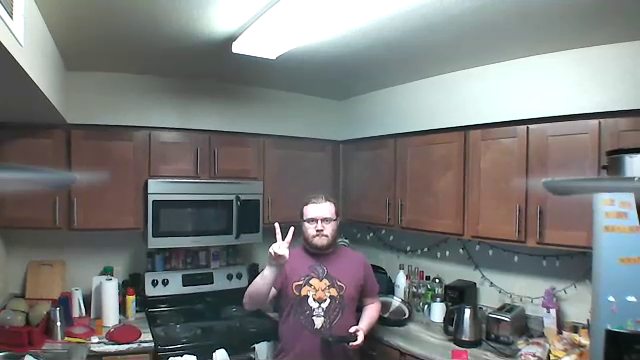peace: (263, 216, 300, 274)
